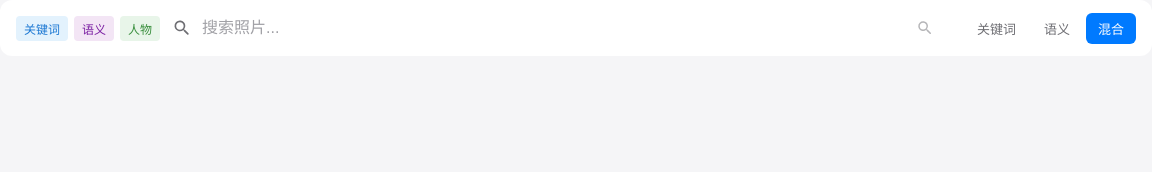
Test: SearchBar Component - Epic E-05 › E-05.1: 搜索界面优化 - Additional Tests › should show section title for recent searches (AC: 显示历史搜索记录)
Focus the field with class "search-input" at (550, 28), box left=200, top=18, right=901, bottom=38
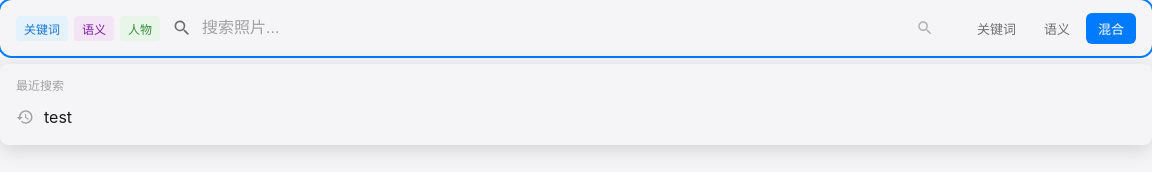
Check: the text with class "section-title" reads "最近搜索", box left=16, top=78, right=64, bottom=93
